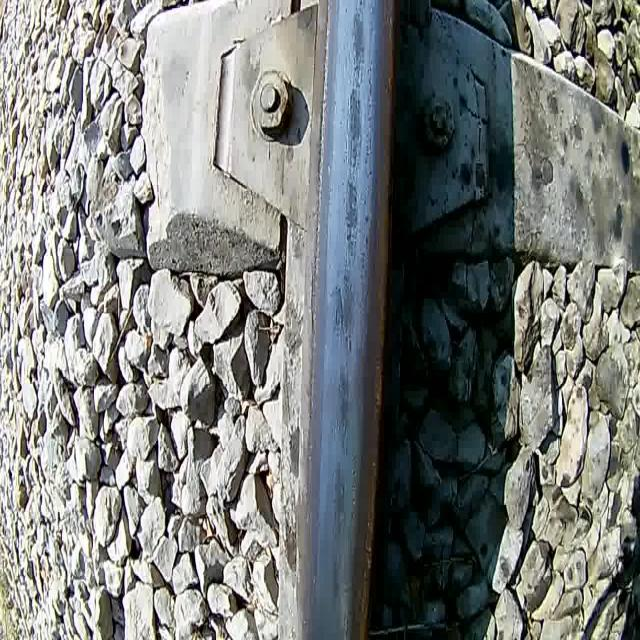Cracks: (332, 286, 347, 341), (347, 89, 355, 173), (348, 50, 363, 86), (353, 124, 362, 172), (344, 318, 355, 352)
Squats: (331, 262, 358, 357), (333, 358, 354, 456), (346, 0, 369, 82), (344, 86, 365, 175), (342, 175, 362, 264), (330, 456, 349, 545), (329, 546, 345, 606)
